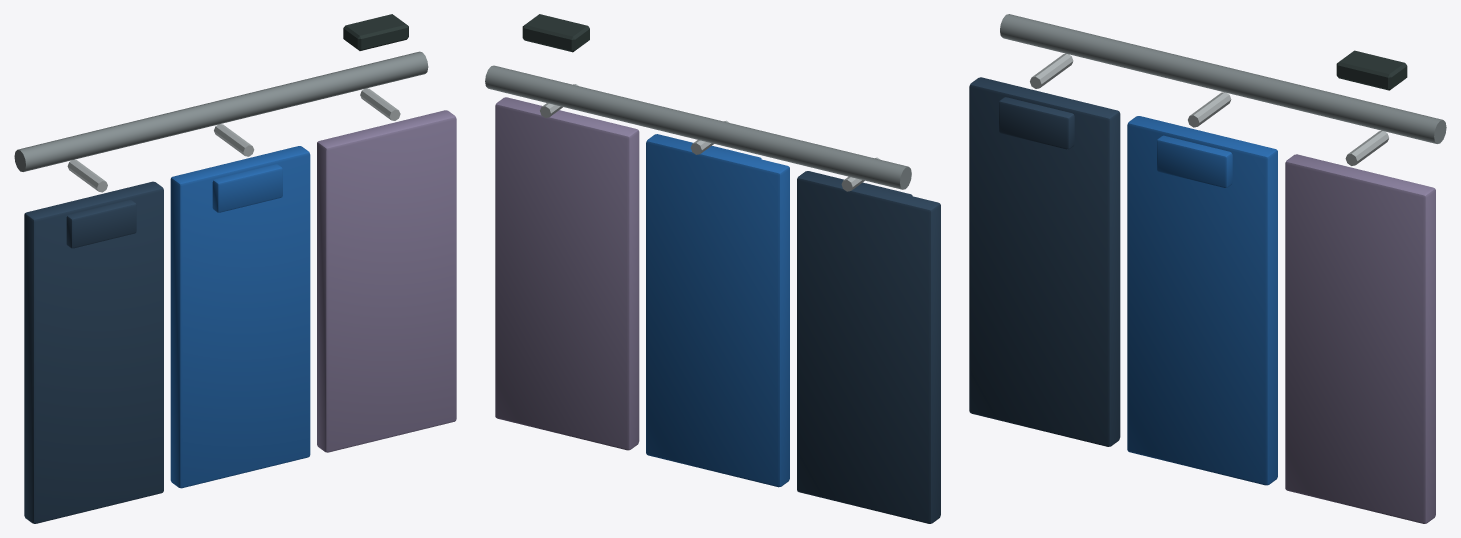
The model's file is sc-apron-rack.glb.
3 views of the same model, side by side, from view 1: azimuth 30°, elevation 25°; view 2: azimuth 150°, elevation 25°; view 3: azimuth 330°, elevation 25° (orthographic). The views are drawn at different scales.
Parts seen in each view (by area): view 1: sc-apron-rack; view 2: sc-apron-rack; view 3: sc-apron-rack.
Part boxes in pixels (left/top/right/bottom): sc-apron-rack: left=14, top=14, right=456, bottom=523; sc-apron-rack: left=485, top=14, right=940, bottom=523; sc-apron-rack: left=969, top=14, right=1446, bottom=523.
Size of the model in its own units: 1.16 by 1.05 by 0.1675.
